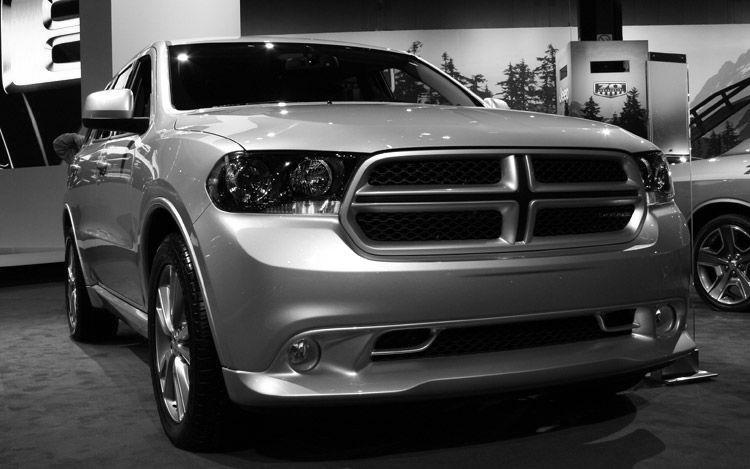car: (63, 36, 700, 450)
